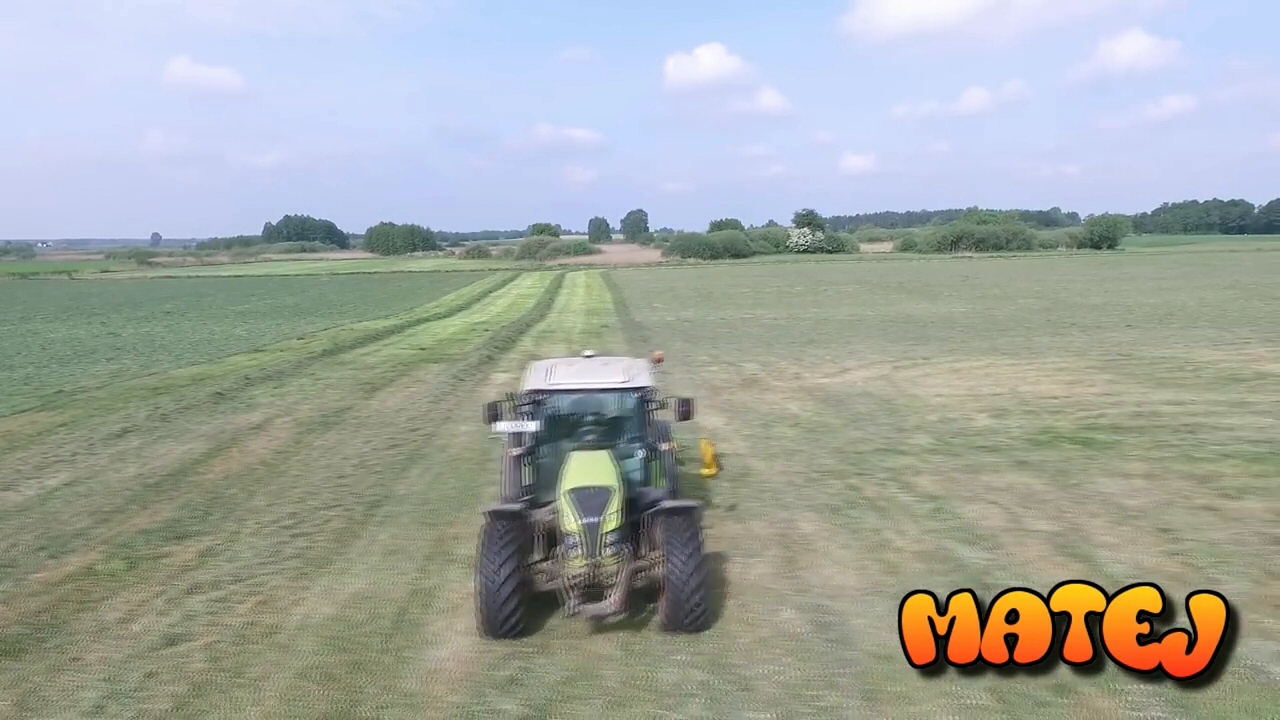traktor: (468, 336, 730, 646)
